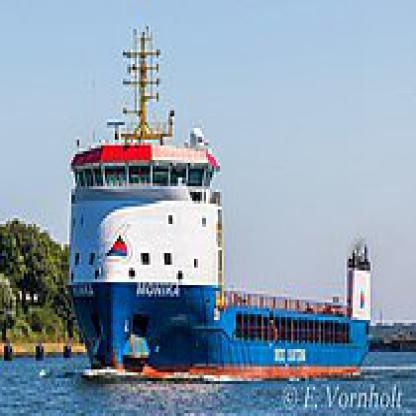Container Ship: (64, 22, 373, 382)
